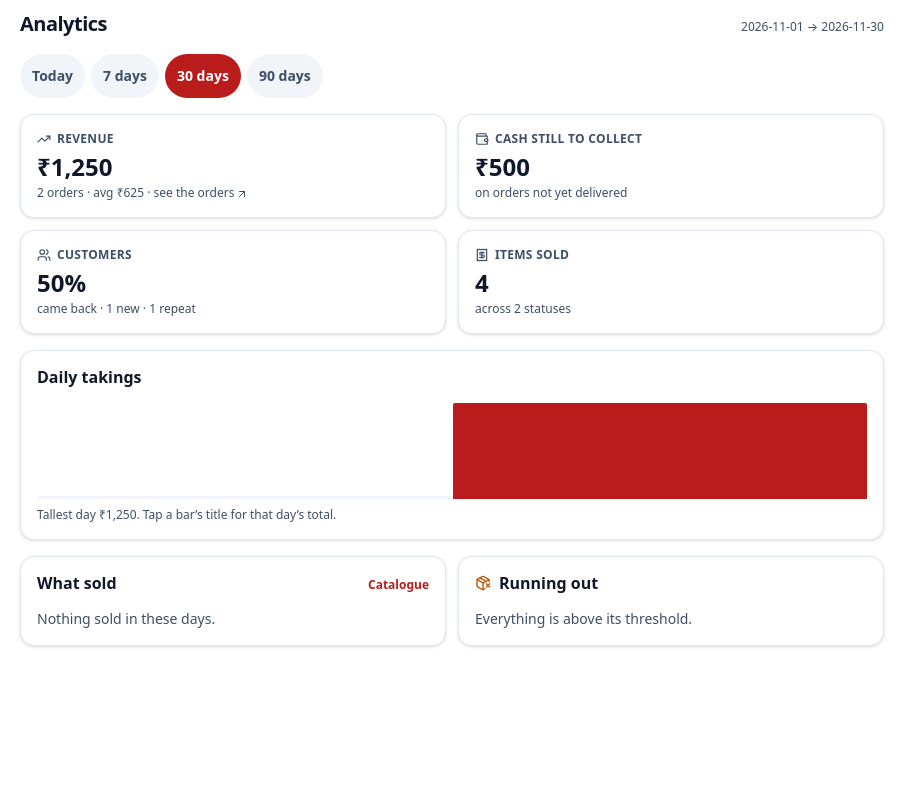
Test case: Phase 6 admin screens › opens the orders behind the revenue card for the exact same date range
This screenshot has width=902, height=789.
Expected: the heading "Daily takings" is shown, [37, 366, 142, 388]
What coordinates should you click on to do the following:
click the button "Revenue ₹1,250 2 orders · avg ₹625 · see the orders"
I would click on:
 (85, 138)
Its box is [20, 114, 446, 218].
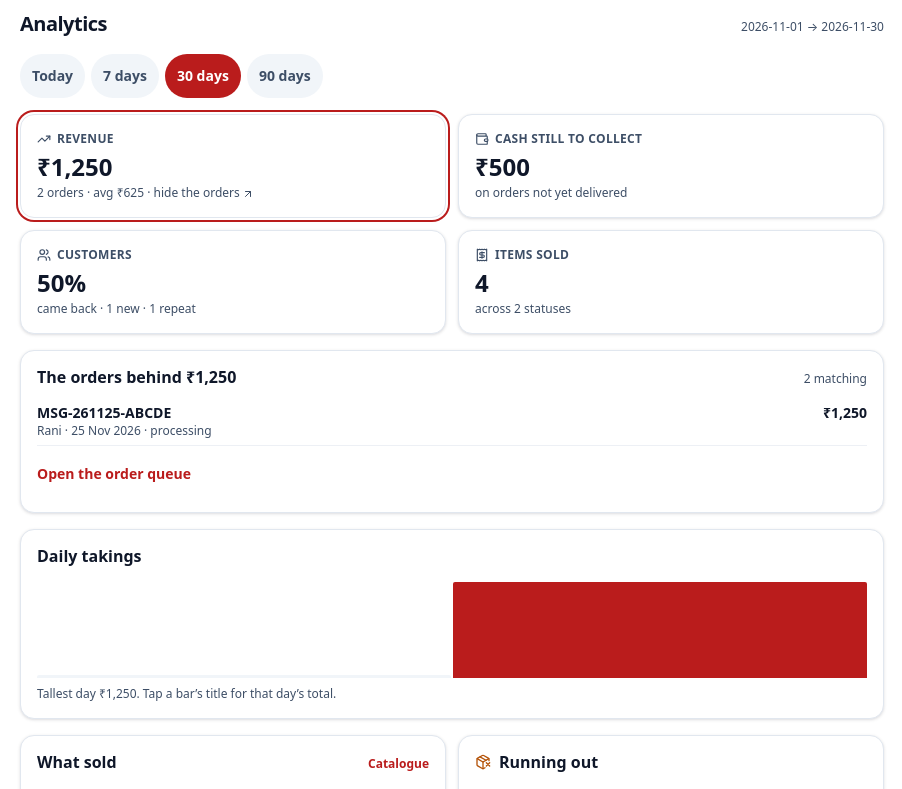
Now the heading "The orders behind ₹1,250" is shown, box [37, 367, 236, 387]
Now the text "MSG-261125-ABCDE" is shown, box [37, 403, 171, 422]
